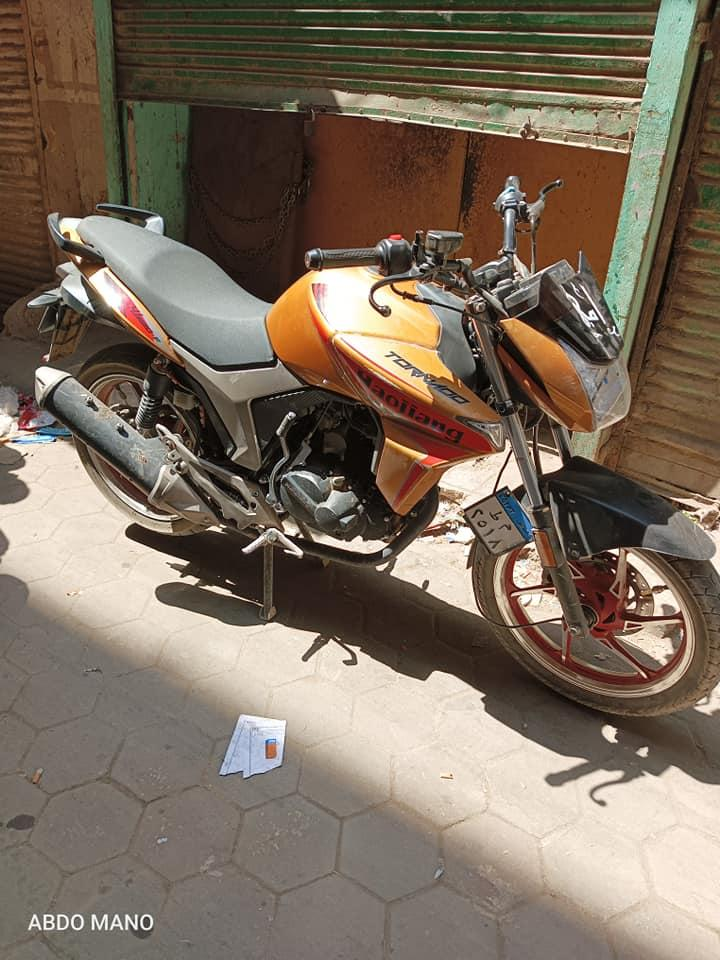License Plate: (460, 480, 535, 562)
